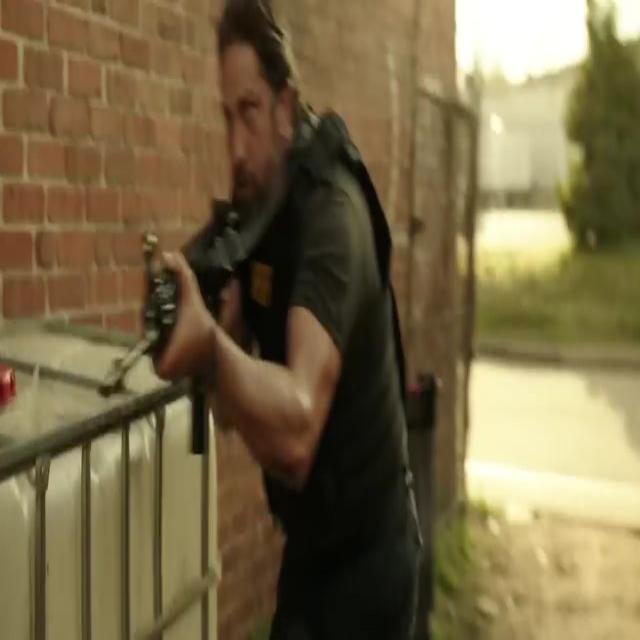Weapon: (79, 181, 247, 422)
